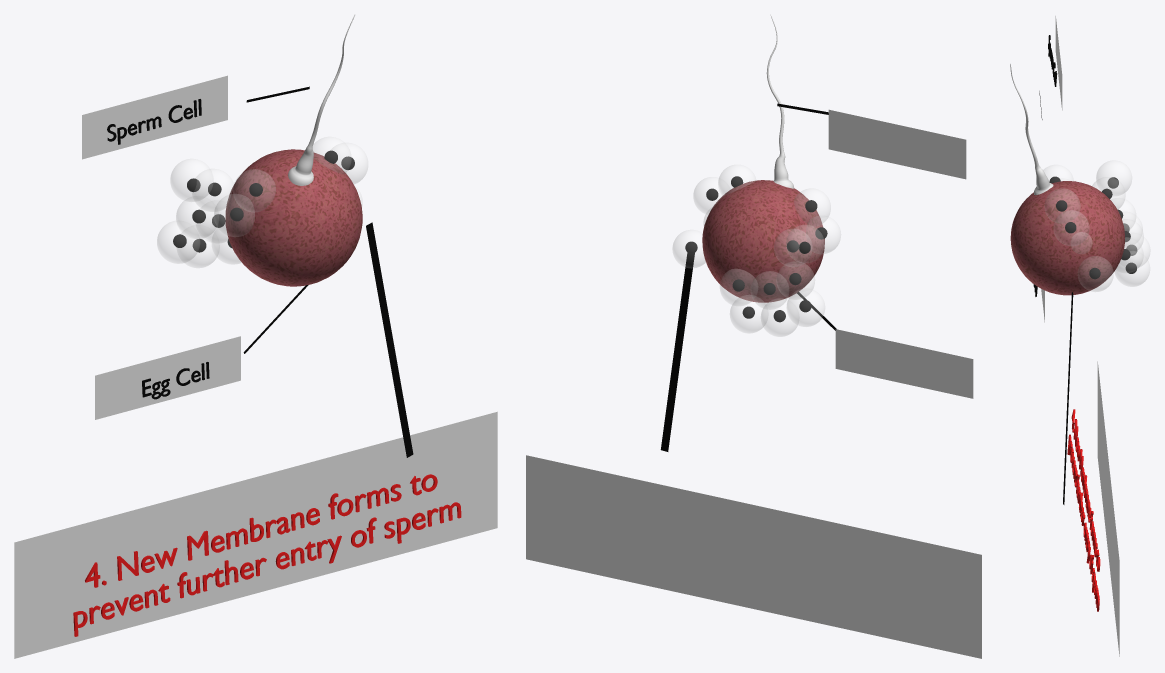
3 renders of one model, left to right at view 1: azimuth 30°, elevation 25°; view 2: azimuth 150°, elevation 25°; view 3: azimuth 270°, elevation 25°, orthographic. The views are drawn at different scales.
Visible parts, largest first — view 1: Plane.154, Object_2.502, Text.085, Plane.153, Plane.151, Plane.155, Object_2.513, Object_2.509, Object_2.505, Object_2.503, Object_2.515, Object_2.511 (+7 smaller); view 2: Plane.154, Object_2.502, Plane.153, Plane.151, Plane.155, Object_2.509, Object_2.513, Object_2.519, Object_2.517, Object_2.515, Object_2.521, Object_2.523 (+7 smaller); view 3: Object_2.502, Plane.154, Text.085, Object_2.507, Object_2.527, Object_2.531, Object_2.509, Object_2.521, Object_2.523, Sperm_Sperm_0.047, Object_2.511, Object_2.519 (+7 smaller).
Boxes of the visible parts, left/top/right/bottom form: Plane.154: left=14, top=411, right=497, bottom=658; Object_2.502: left=225, top=149, right=362, bottom=286; Text.085: left=73, top=474, right=461, bottom=636; Plane.153: left=95, top=336, right=240, bottom=419; Plane.151: left=82, top=75, right=227, bottom=159; Plane.155: left=366, top=222, right=413, bottom=457; Object_2.513: left=157, top=221, right=199, bottom=263; Object_2.509: left=170, top=159, right=212, bottom=201; Object_2.505: left=233, top=169, right=275, bottom=212; Object_2.503: left=214, top=194, right=254, bottom=236; Object_2.515: left=176, top=197, right=218, bottom=238; Object_2.511: left=192, top=169, right=233, bottom=211; Plane.154: left=526, top=455, right=981, bottom=658; Object_2.502: left=702, top=180, right=824, bottom=302; Plane.153: left=835, top=329, right=973, bottom=398; Plane.151: left=828, top=109, right=966, bottom=179; Plane.155: left=660, top=252, right=694, bottom=451; Object_2.509: left=786, top=225, right=824, bottom=263; Object_2.513: left=787, top=289, right=824, bottom=326; Object_2.519: left=751, top=271, right=788, bottom=309; Object_2.517: left=761, top=299, right=798, bottom=336; Object_2.515: left=777, top=262, right=814, bottom=299; Object_2.521: left=730, top=295, right=767, bottom=333; Object_2.523: left=720, top=269, right=757, bottom=305; Object_2.502: left=1010, top=181, right=1124, bottom=295; Plane.154: left=1097, top=361, right=1119, bottom=656; Text.085: left=1067, top=409, right=1100, bottom=611; Object_2.507: left=1078, top=256, right=1113, bottom=291; Object_2.527: left=1053, top=210, right=1089, bottom=245; Object_2.531: left=1044, top=188, right=1080, bottom=222; Object_2.509: left=1096, top=160, right=1131, bottom=195; Object_2.521: left=1115, top=251, right=1149, bottom=286; Object_2.523: left=1116, top=237, right=1143, bottom=272; Sperm_Sperm_0.047: left=1010, top=64, right=1053, bottom=195; Object_2.511: left=1092, top=177, right=1125, bottom=208; Object_2.519: left=1122, top=219, right=1143, bottom=251.
Bounding box in the file's own units: 2.76 × 3.25 × 0.8084.
Materials: 9 (2 with a texture image).
